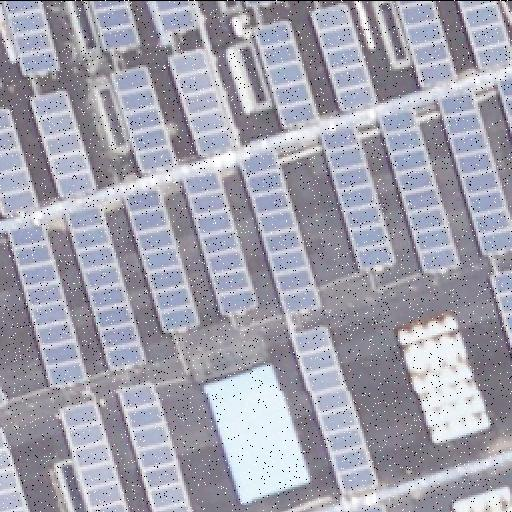solar-panel: (288, 321, 376, 495), (7, 219, 89, 389), (63, 202, 145, 370), (376, 106, 456, 274), (433, 89, 511, 255), (241, 152, 319, 316), (181, 165, 259, 315), (123, 188, 197, 332), (117, 377, 195, 511), (320, 126, 392, 270), (59, 400, 133, 512), (253, 13, 323, 131), (29, 87, 99, 201), (168, 43, 236, 157), (307, 0, 373, 112), (111, 62, 177, 174), (394, 0, 454, 90), (0, 0, 60, 76), (1, 104, 39, 216), (454, 0, 512, 72), (1, 424, 31, 512), (90, 0, 138, 52), (486, 266, 512, 350), (152, 0, 196, 36), (496, 75, 512, 133), (344, 497, 388, 511), (244, 0, 272, 8), (0, 379, 8, 405), (0, 78, 4, 86)
